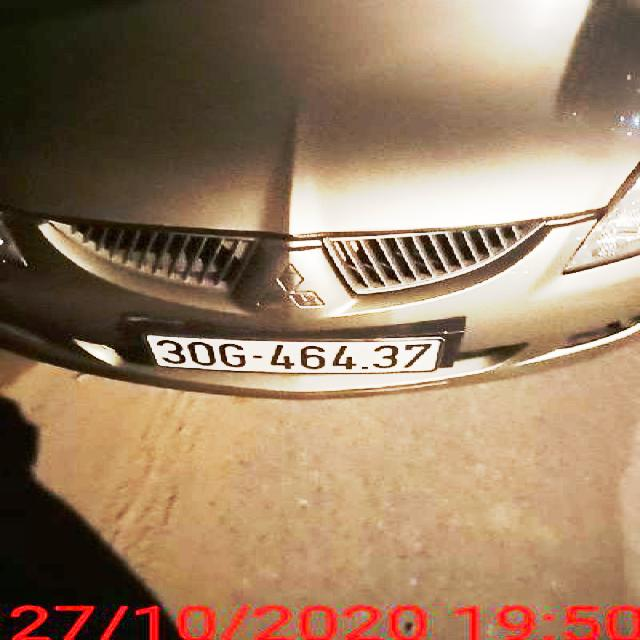license_plate: (143, 336, 445, 373)
